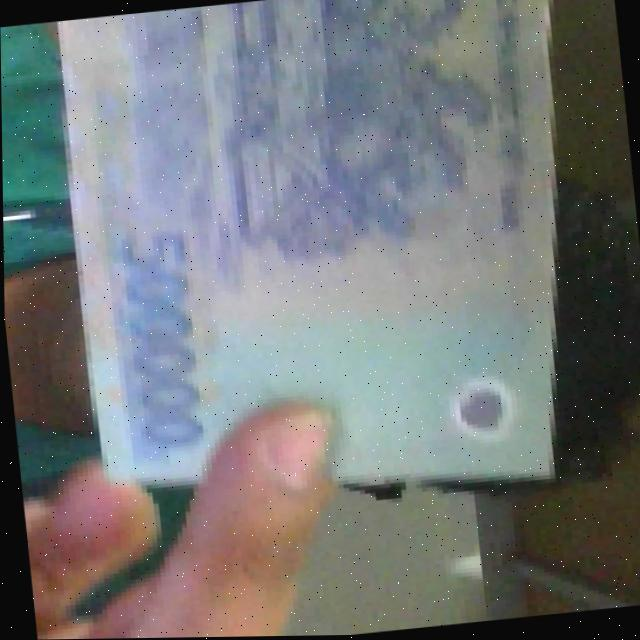500 000 VND: (45, 0, 619, 529)
